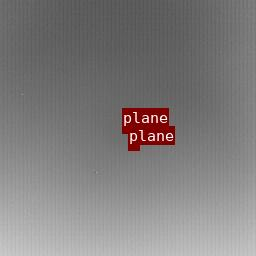plane: (122, 127, 135, 133), (128, 145, 139, 150)
